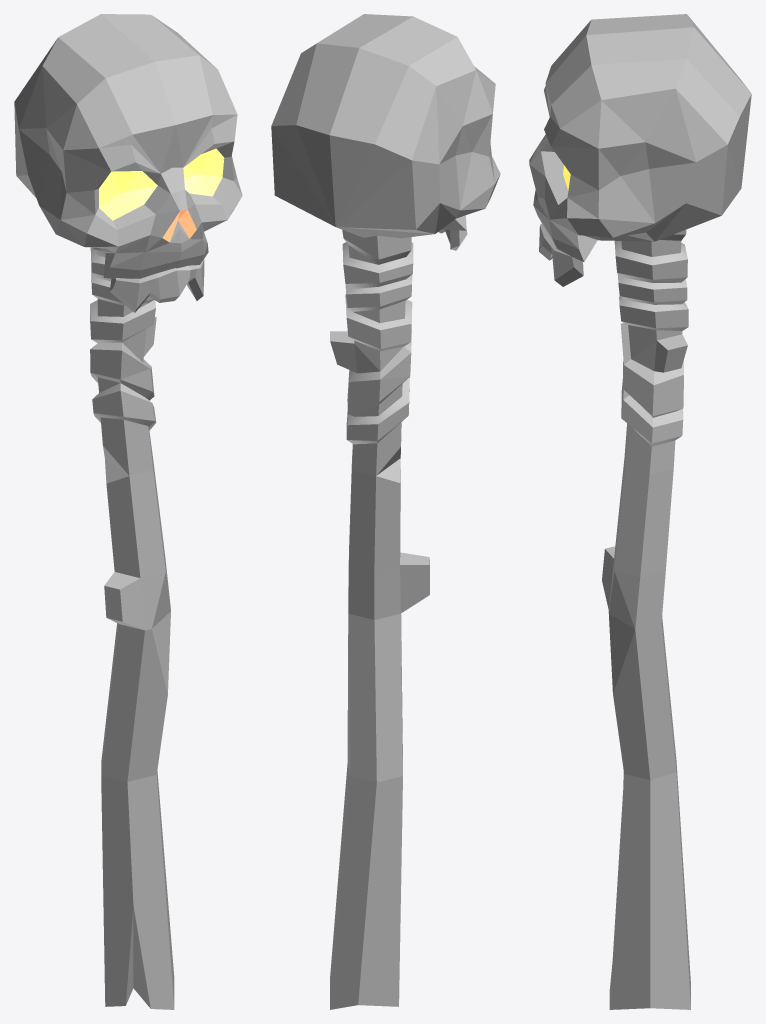
Rendered from SM_Prop_Torch_06.fbx.
The picture shows the model from 3 angles, left to right: view 1: azimuth 30°, elevation 25°; view 2: azimuth 150°, elevation 25°; view 3: azimuth 270°, elevation 25°; orthographic projection.
Visible parts, largest first — view 1: SM_Prop_Torch_06; view 2: SM_Prop_Torch_06; view 3: SM_Prop_Torch_06.
Boxes of the visible parts, box(x1,y1,x2,y2) form: SM_Prop_Torch_06: box(14, 14, 242, 1009); SM_Prop_Torch_06: box(271, 14, 500, 1009); SM_Prop_Torch_06: box(529, 14, 751, 1009).
Bounding box in the file's own units: 23.38 × 123 × 25.69.
